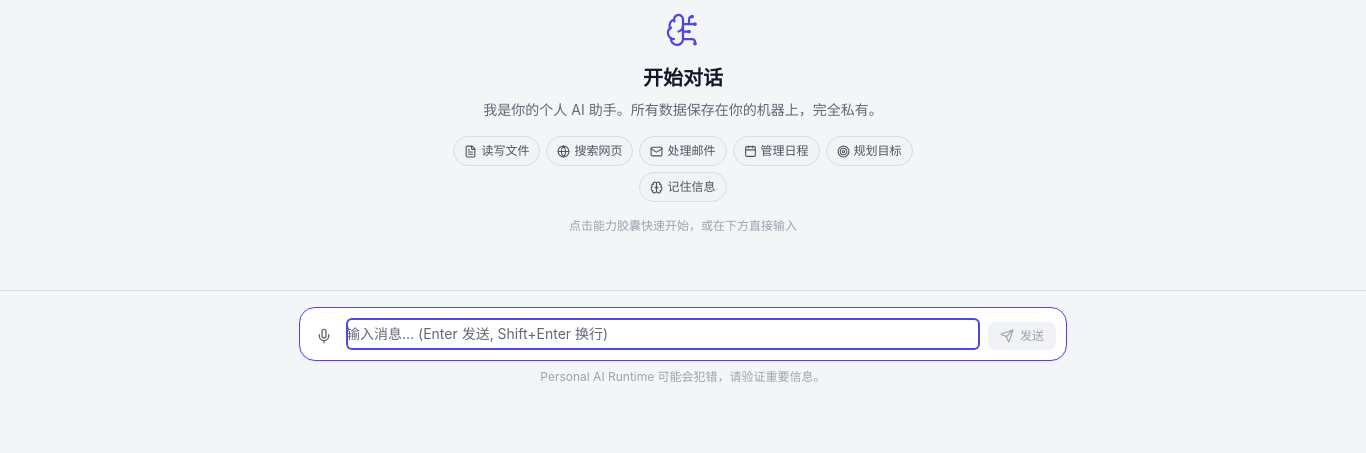
Test: ChatView › shows approval dialog when stream requests confirmation
This screenshot has width=1366, height=453.
Step 1. Type "create a file" into the text box with placeholder "输入消息... (Enter 发送, Shift+Enter 换行)" → (663, 334), box [346,318,980,350]
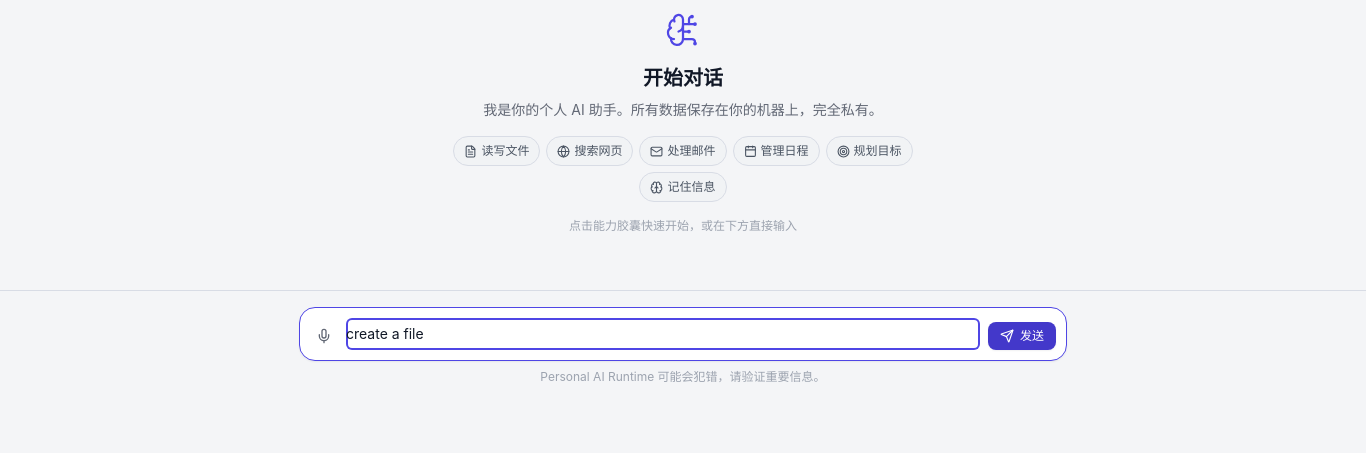
Step 2. Click the button "发送" → (1022, 336), box [988,322,1056,350]
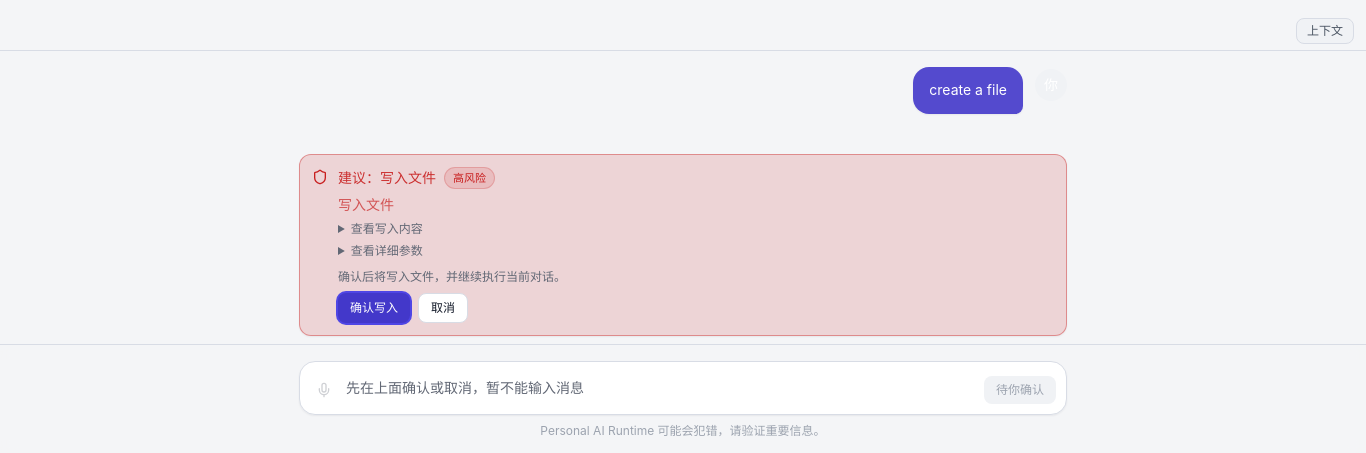
Check: the heading "建议：写入文件" is shown, box [338,168,436,188]
